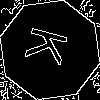K: (25, 25, 77, 69)
